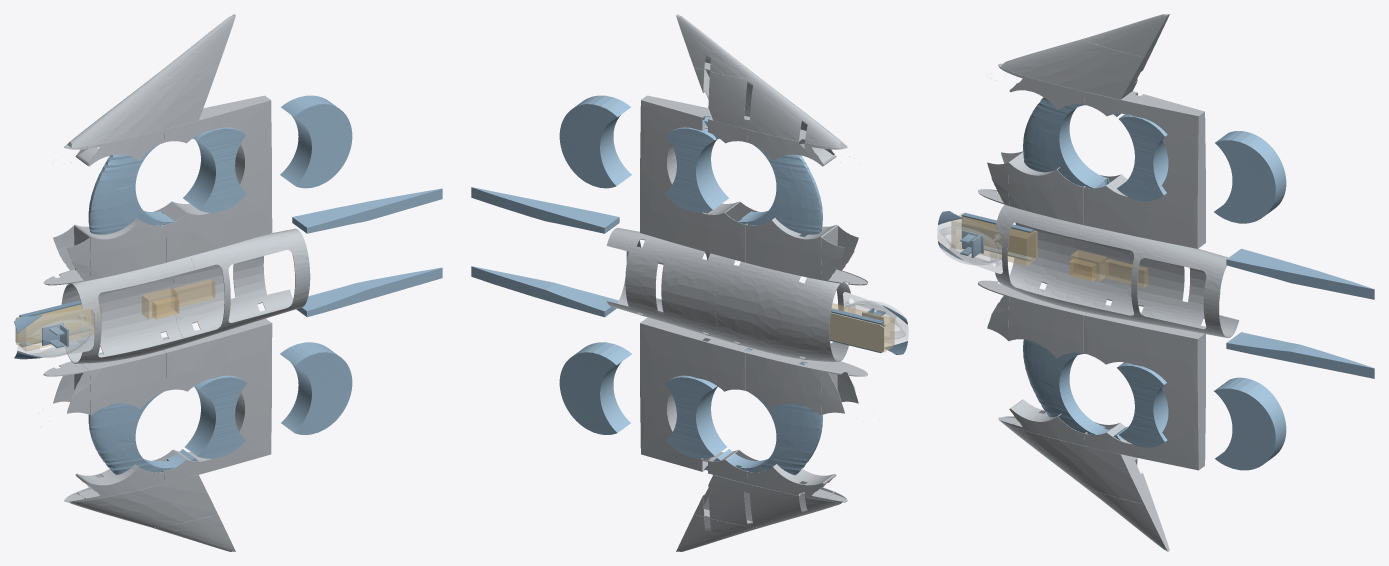
File: v19a_long_nose.glb
3 views of the same model, side by side, from view 1: azimuth 30°, elevation 25°; view 2: azimuth 150°, elevation 25°; view 3: azimuth 330°, elevation 25° (orthographic).
Visible parts, largest first — view 1: WRC_hollow_wing, F3_hollow_body, WLC_hollow_wing, F2_hollow_body, NEW_well_fill_R, NEW_well_fill_L, WRE1_falcon_wing, WLB_hollow_wing, WRB_hollow_wing, WLE1_falcon_wing, NEW_leading_edge_glove_R, NEW_leading_edge_glove_L (+13 smaller); view 2: F2_hollow_body, WRC_hollow_wing, WLC_hollow_wing, NEW_well_fill_R, NEW_well_fill_L, F3_hollow_body, WLB_hollow_wing, WRE1_falcon_wing, WRB_hollow_wing, WLE1_falcon_wing, NEW_leading_edge_glove_R, NEW_leading_edge_glove_L (+9 smaller); view 3: WRC_hollow_wing, WLC_hollow_wing, F2_hollow_body, F3_hollow_body, NEW_well_fill_R, NEW_well_fill_L, WRE1_falcon_wing, WLB_hollow_wing, WRB_hollow_wing, WLE1_falcon_wing, NEW_leading_edge_glove_R, NEW_leading_edge_glove_L (+11 smaller).
Part boxes in pixels (x1,y1,x2,y2): WRC_hollow_wing: [153, 95, 272, 262]; F3_hollow_body: [173, 228, 310, 341]; WLC_hollow_wing: [152, 318, 272, 483]; F2_hollow_body: [61, 256, 194, 363]; NEW_well_fill_R: [183, 95, 352, 212]; NEW_well_fill_L: [185, 342, 352, 458]; WRE1_falcon_wing: [67, 67, 217, 147]; WLB_hollow_wing: [76, 350, 166, 500]; WRB_hollow_wing: [74, 129, 166, 280]; WLE1_falcon_wing: [70, 475, 217, 527]; NEW_leading_edge_glove_R: [88, 135, 197, 234]; NEW_leading_edge_glove_L: [88, 392, 198, 474]; F2_hollow_body: [715, 257, 850, 361]; WRC_hollow_wing: [640, 95, 759, 262]; WLC_hollow_wing: [640, 317, 759, 483]; NEW_well_fill_R: [559, 95, 728, 212]; NEW_well_fill_L: [559, 342, 726, 458]; F3_hollow_body: [606, 227, 722, 339]; WLB_hollow_wing: [746, 348, 835, 500]; WRE1_falcon_wing: [694, 67, 844, 147]; WRB_hollow_wing: [746, 129, 837, 280]; WLE1_falcon_wing: [694, 475, 841, 527]; NEW_leading_edge_glove_R: [704, 116, 822, 236]; NEW_leading_edge_glove_L: [704, 348, 822, 475]; WRC_hollow_wing: [1083, 91, 1205, 248]; WLC_hollow_wing: [1083, 304, 1205, 470]; F2_hollow_body: [995, 205, 1130, 317]; F3_hollow_body: [1108, 231, 1239, 337]; NEW_well_fill_R: [1117, 114, 1286, 223]; NEW_well_fill_L: [1117, 362, 1286, 470]; WRE1_falcon_wing: [1001, 38, 1151, 99]; WLB_hollow_wing: [1008, 288, 1098, 445]; WRB_hollow_wing: [1008, 72, 1084, 224]; WLE1_falcon_wing: [1001, 422, 1151, 503]; NEW_leading_edge_glove_R: [1023, 97, 1120, 188]; NEW_leading_edge_glove_L: [1023, 339, 1128, 440].
Size of the model in its own units: 802 by 954 by 99.49.
